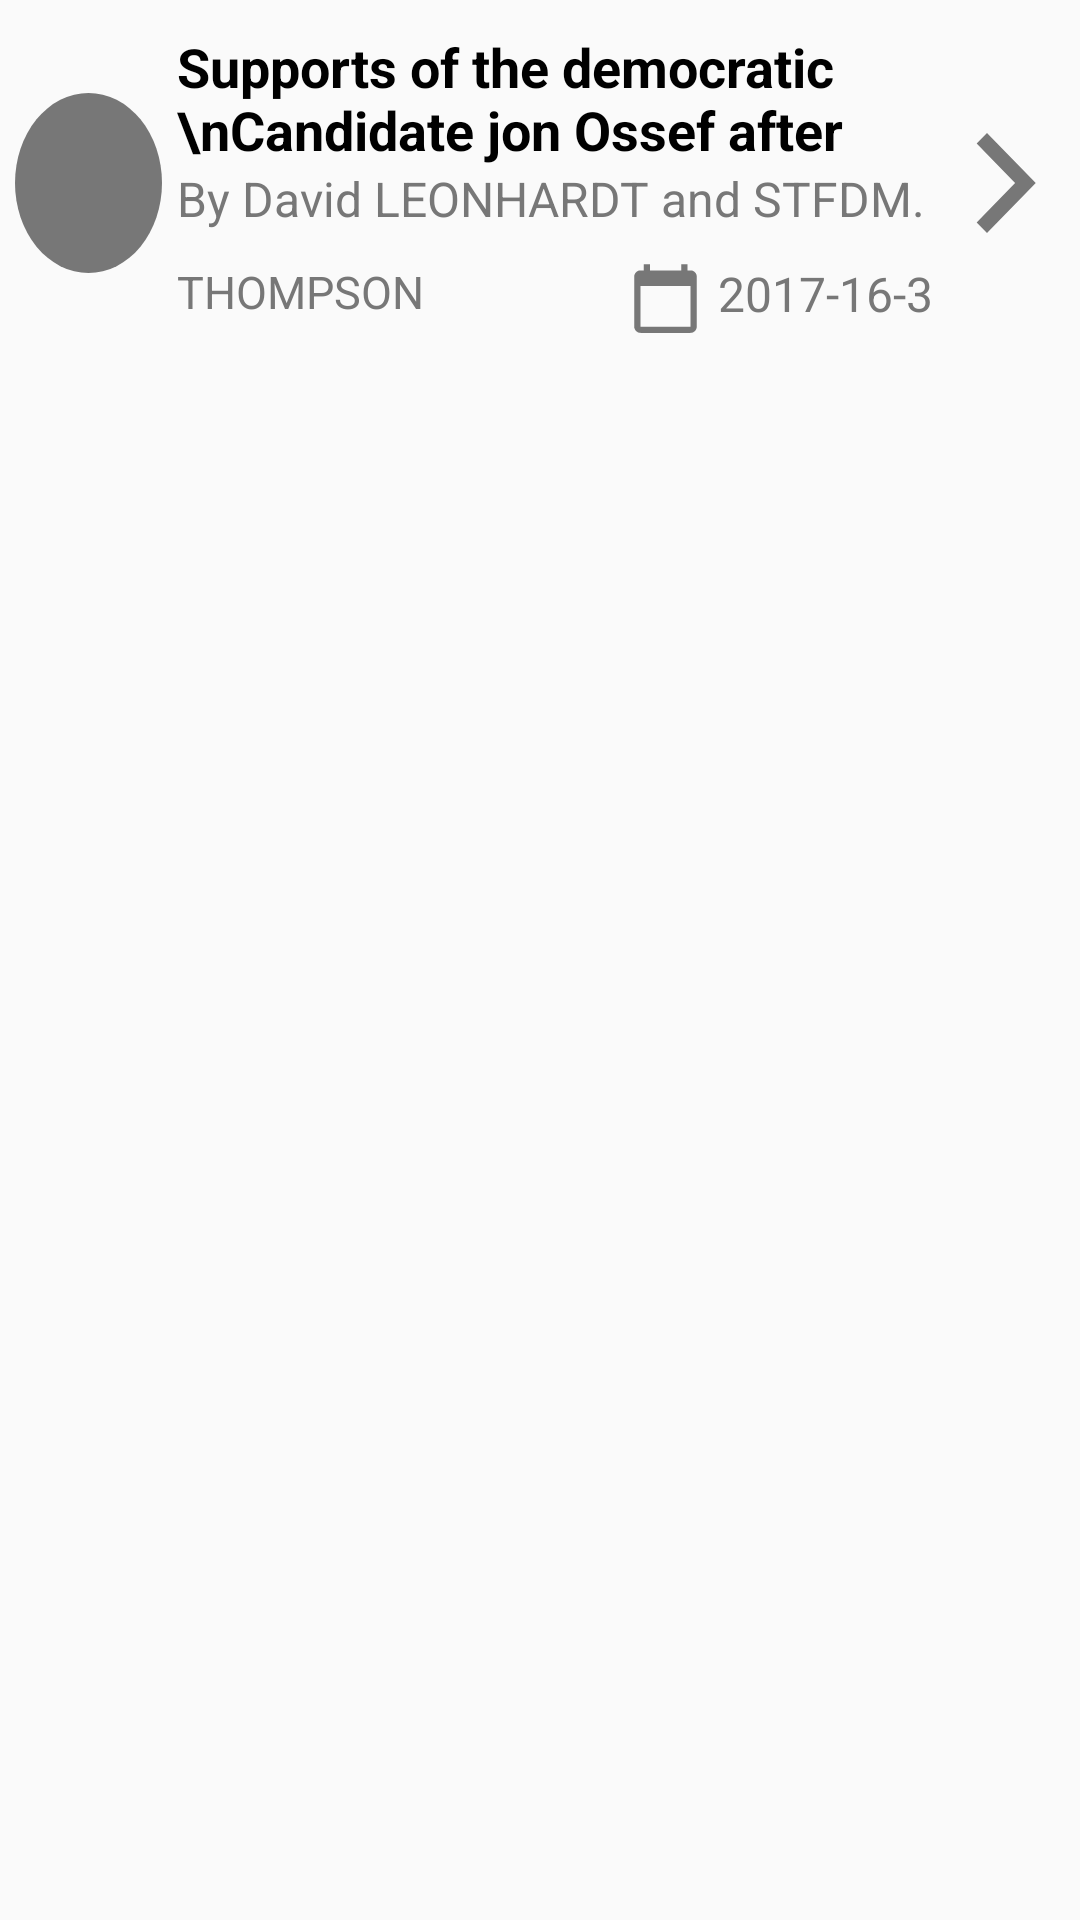

Screen size 1080px x 1920px. Icon name, then its box in pixels as [x1, y1, x2, y2]:
arrow forward: [977, 133, 1036, 233]
calendar today: [634, 264, 697, 333]
